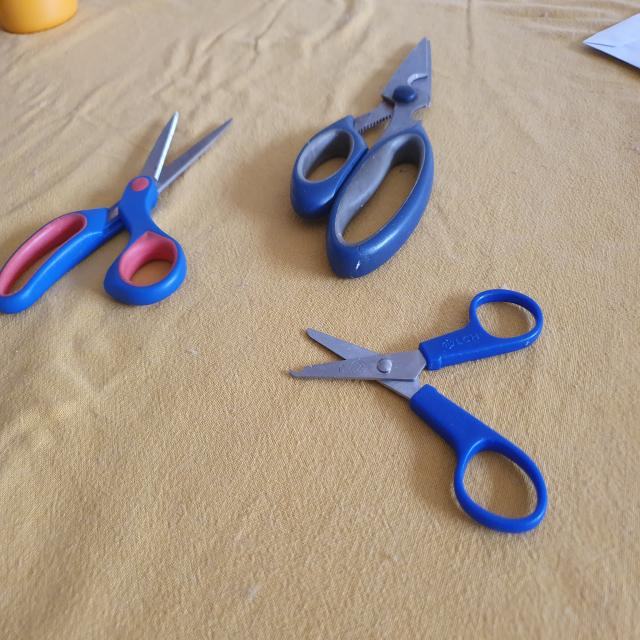scissors: (0, 110, 238, 311), (289, 32, 438, 278)
